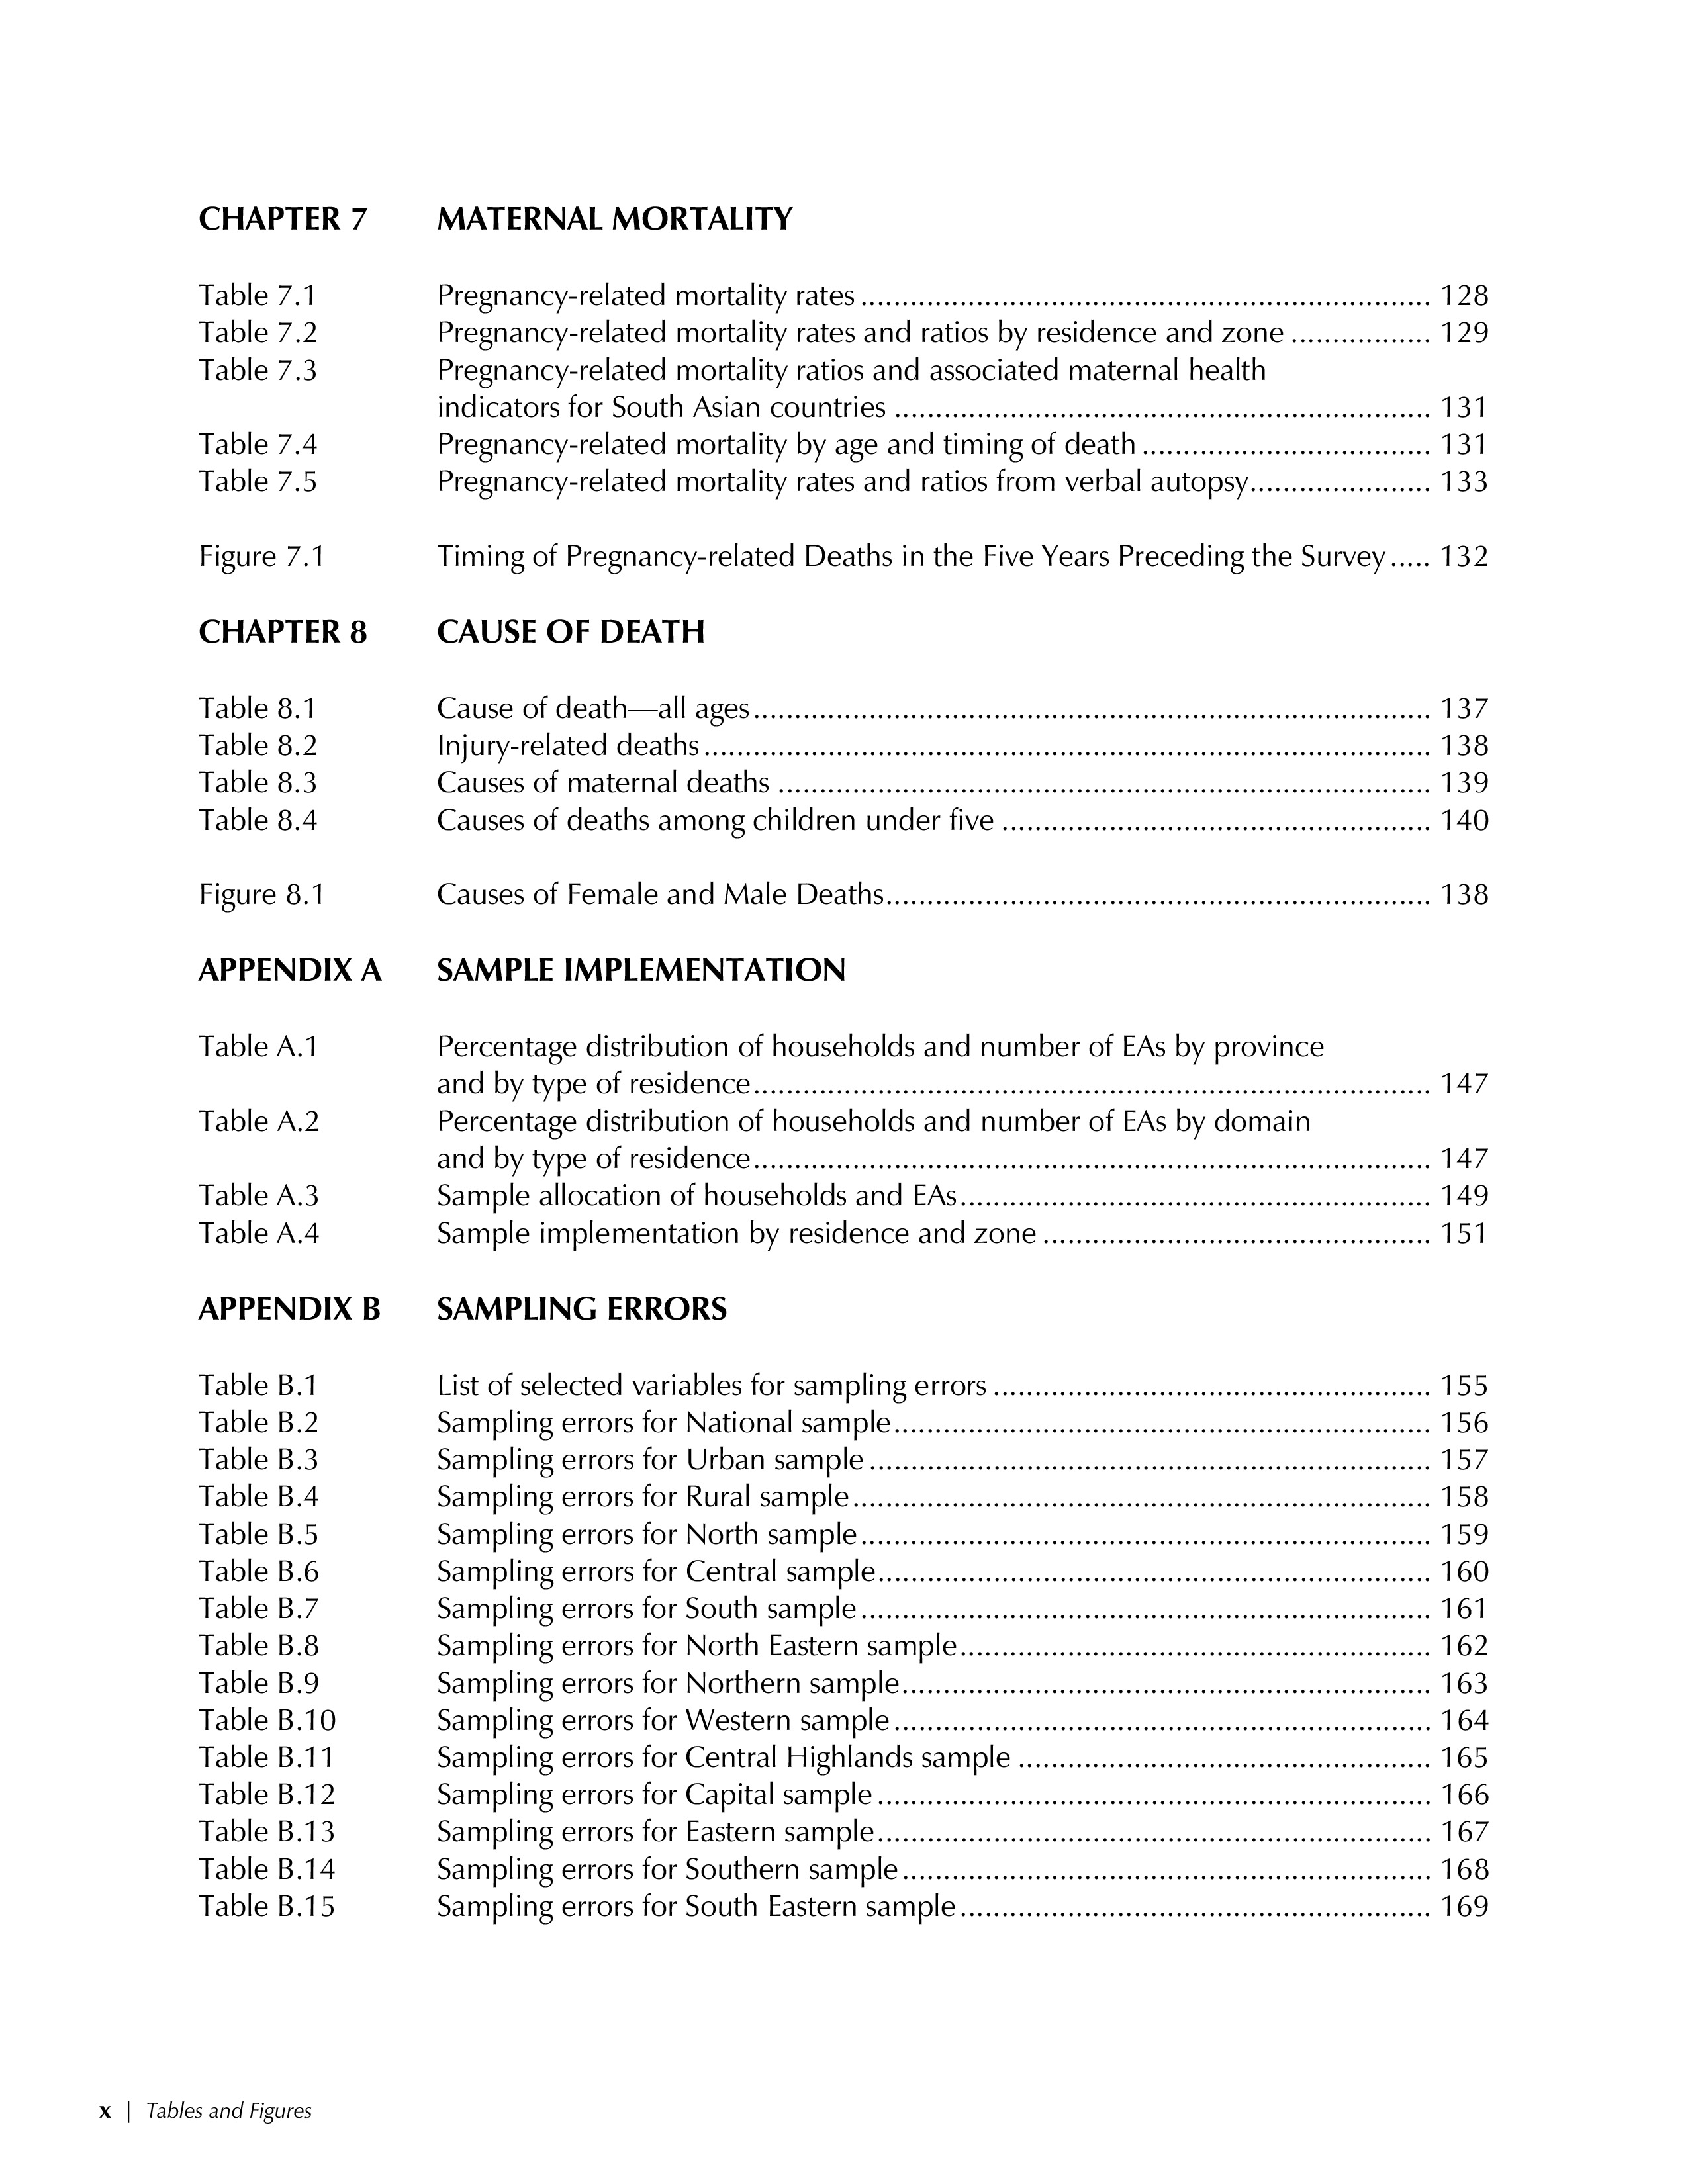section: (160, 943, 869, 1005), (190, 186, 800, 243), (170, 1278, 746, 1328), (170, 610, 699, 663)
table: (200, 1345, 1505, 1948), (193, 273, 1521, 610), (181, 693, 1518, 925), (209, 1025, 1505, 1259)
